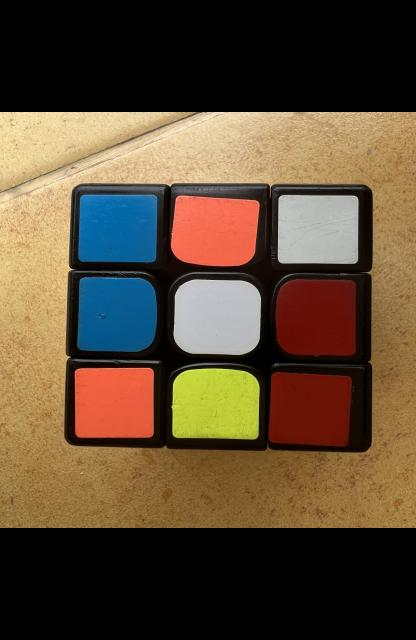Blue: (76, 278, 157, 351), (77, 194, 157, 263)
Orange: (170, 195, 258, 266), (73, 368, 153, 438)
Red: (274, 279, 356, 356), (268, 372, 350, 447)
White: (172, 279, 260, 356), (277, 195, 358, 264)
Yellow: (170, 369, 259, 439)
